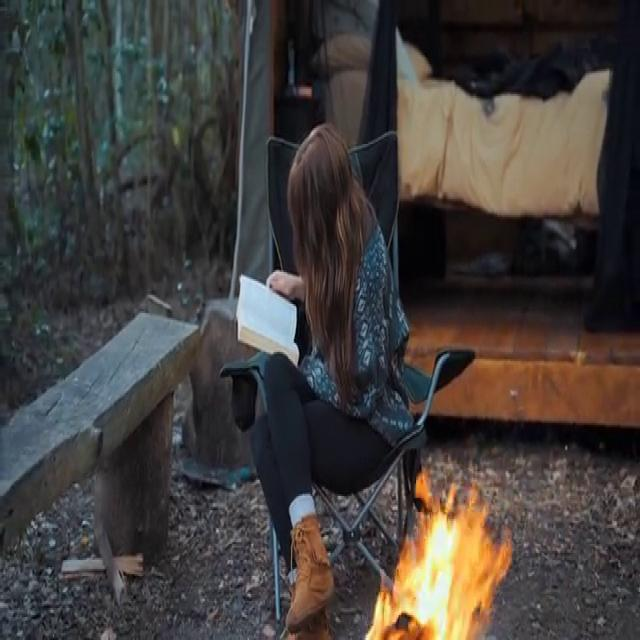Fire: (375, 468, 505, 640)
